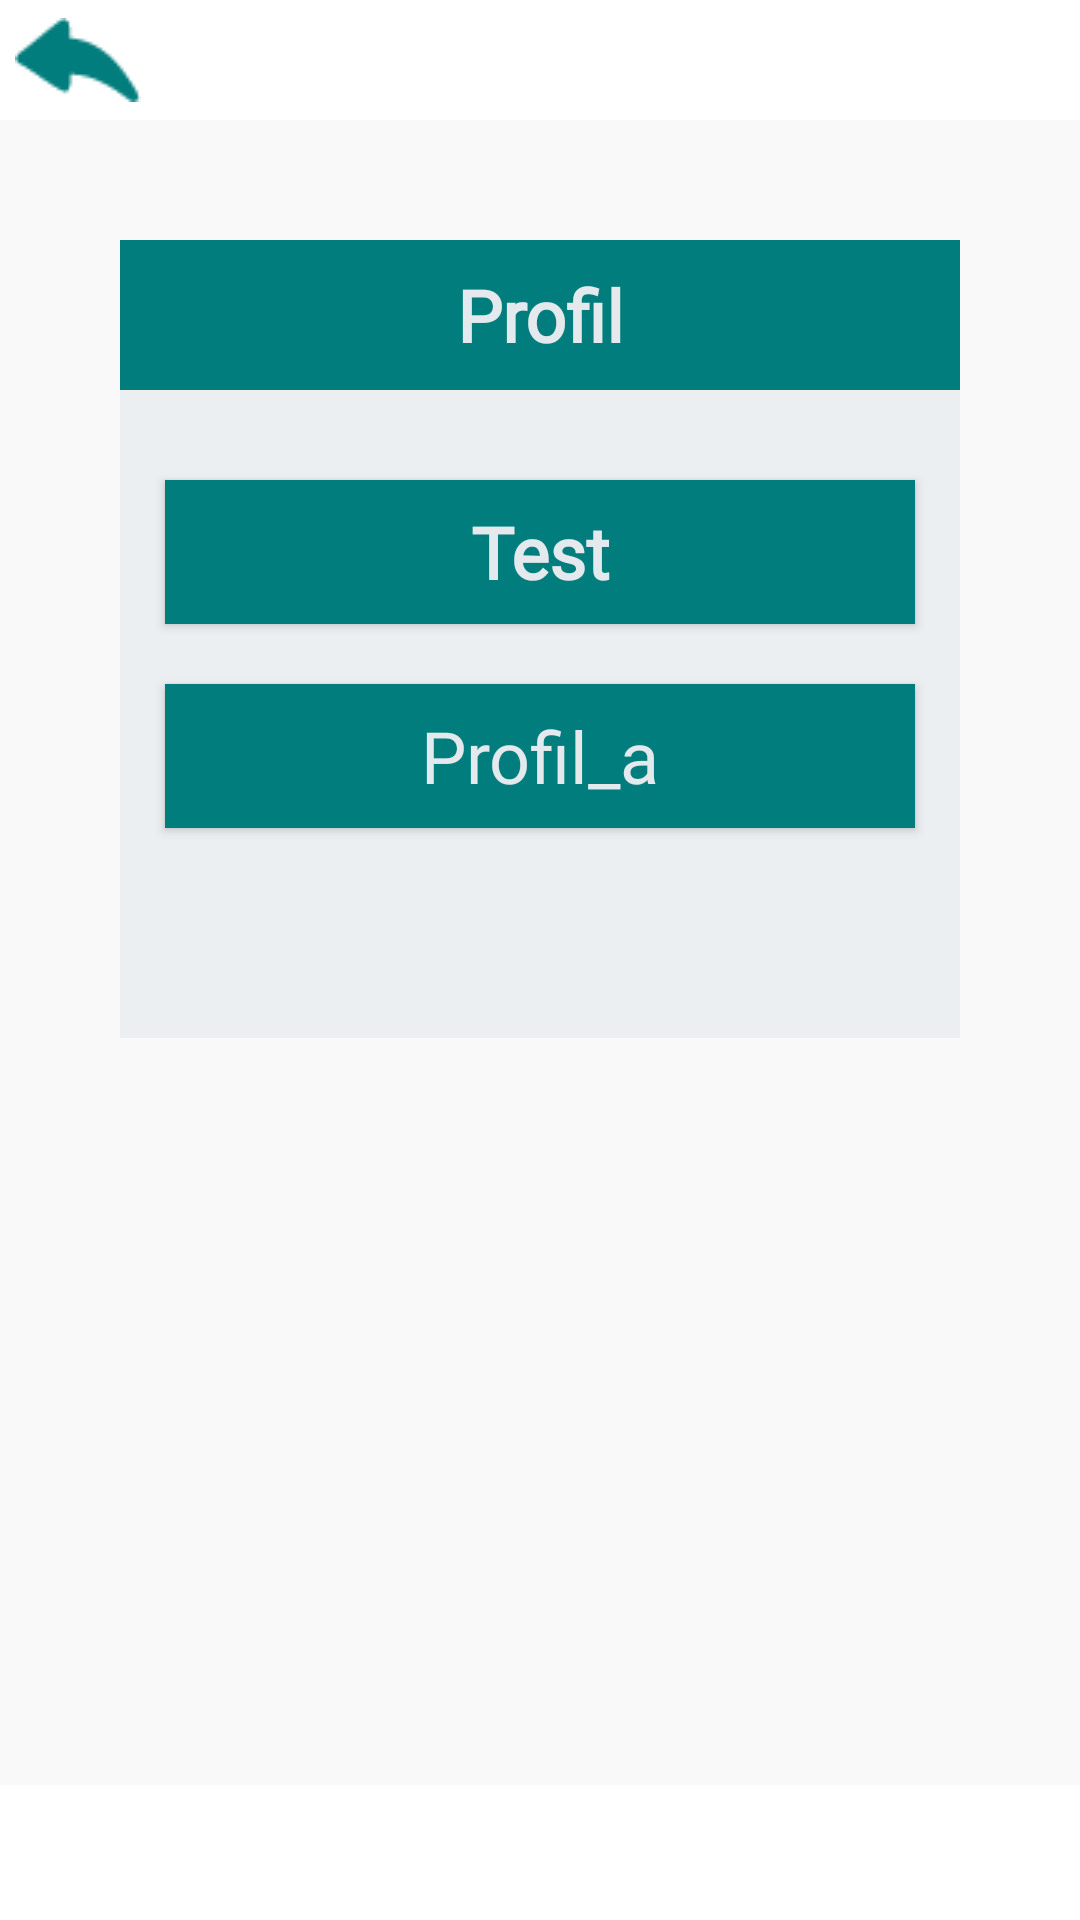

Where icons sit on this 1080 x 1920 app screen, as (x1, y1, x2, y2):
back: (15, 18, 141, 102)
